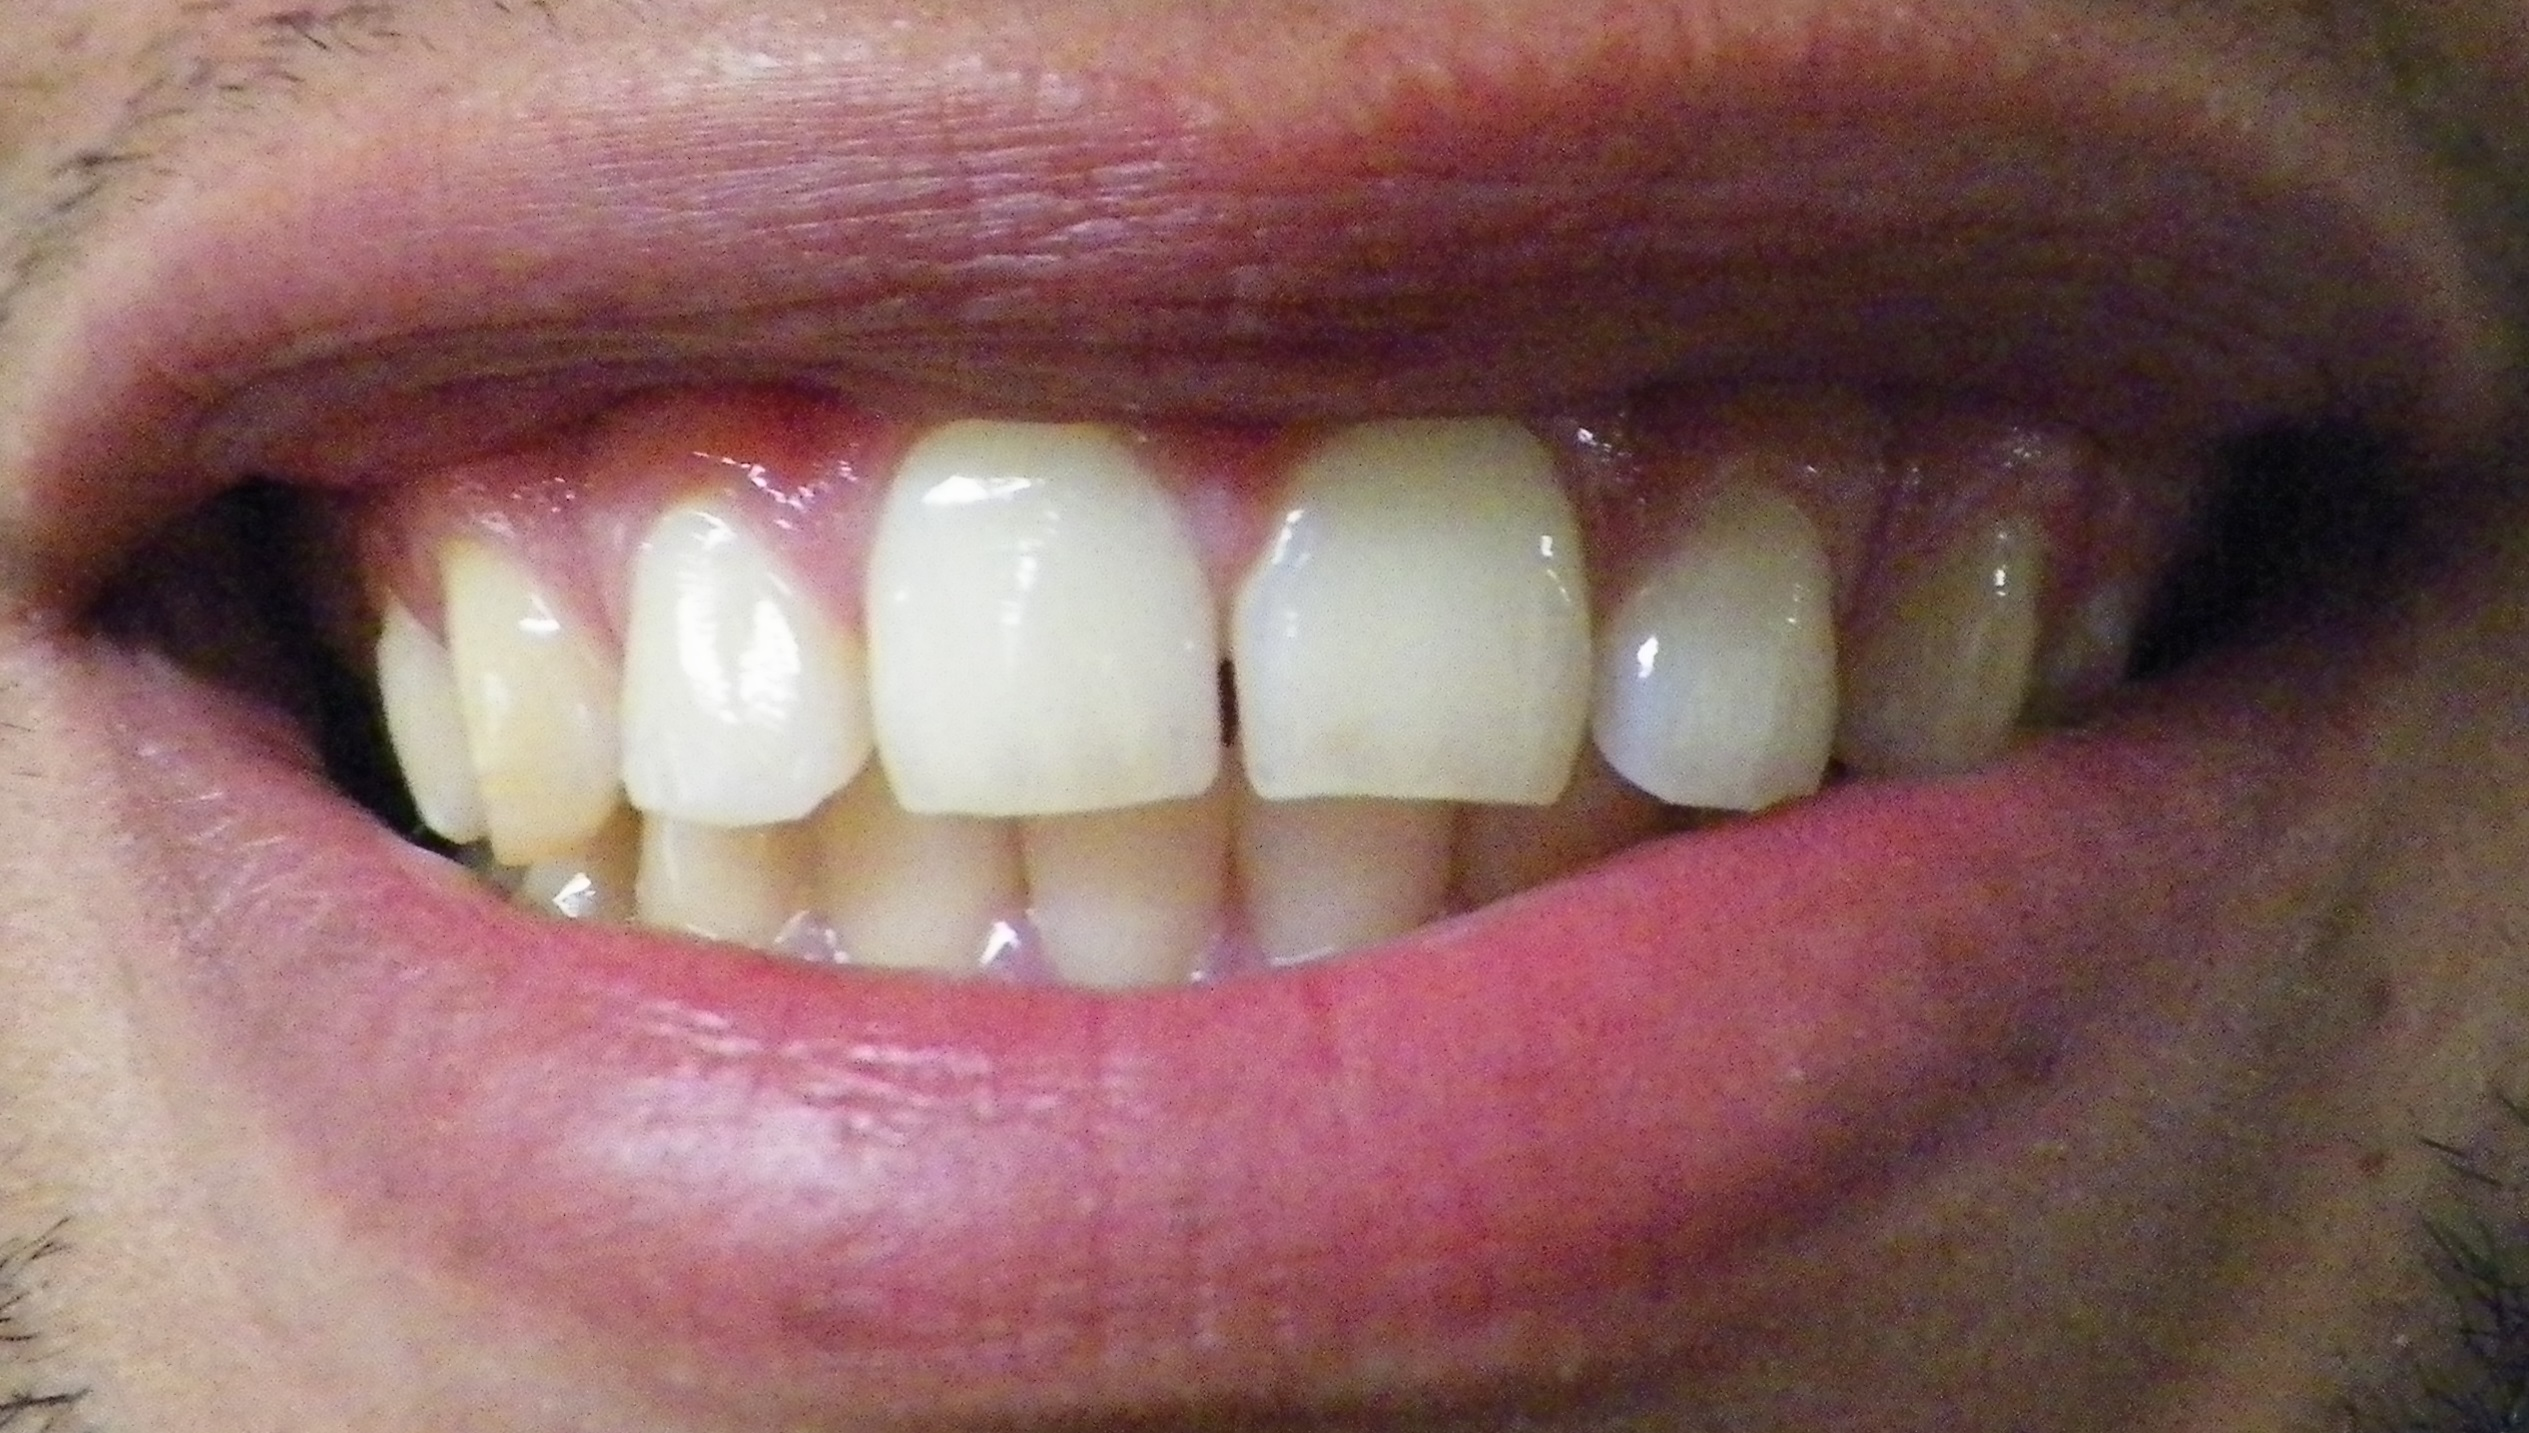boca: (384, 457, 2178, 990)
